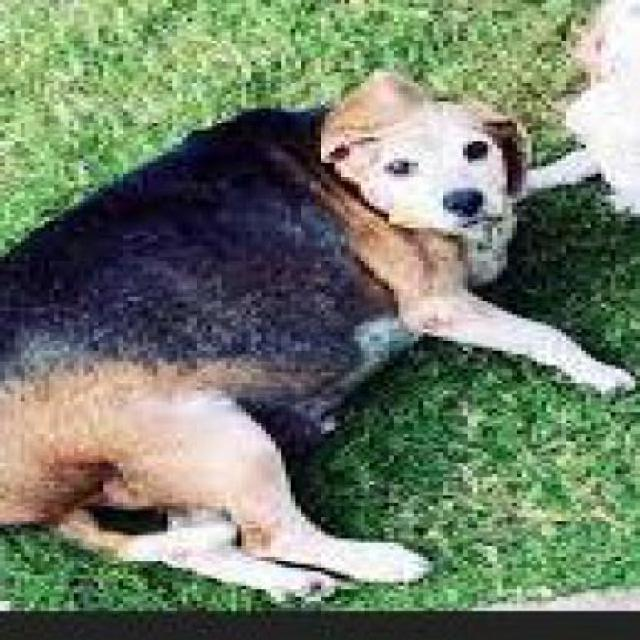Dog: (2, 66, 636, 611)
